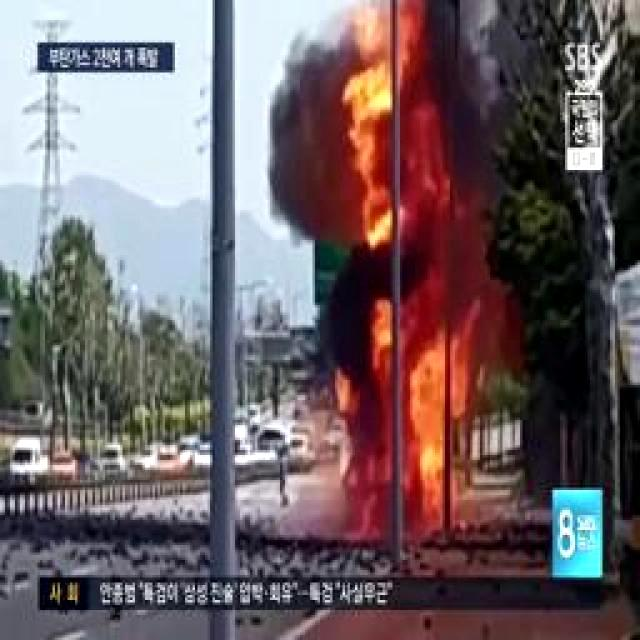fire: (374, 282, 478, 530), (345, 30, 447, 234)
